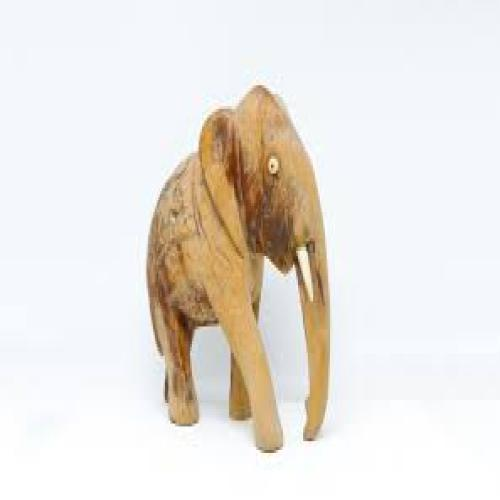asian_elephant-endangered: (147, 89, 331, 458)
